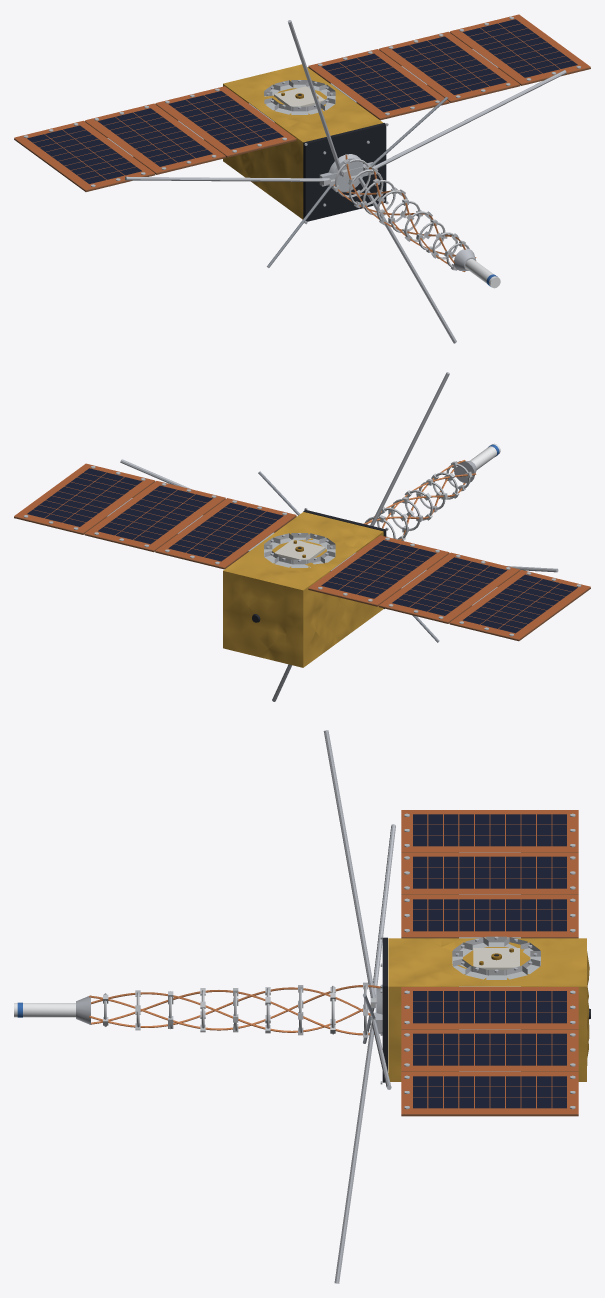
File: kineis.glb
3 renders of one model, top to bottom at view 1: azimuth 30°, elevation 25°; view 2: azimuth 150°, elevation 25°; view 3: azimuth 270°, elevation 25°, orthographic. The views are drawn at different scales.
Visible parts, largest first — view 1: body, solar-panel, foil; view 2: body, solar-panel, foil; view 3: body, solar-panel, foil.
Boxes of the visible parts, x1,y1,x2,y2 form: body: [14, 14, 590, 343]; solar-panel: [27, 19, 577, 183]; foil: [223, 64, 476, 271]; body: [14, 372, 590, 701]; solar-panel: [27, 468, 577, 633]; foil: [223, 460, 476, 667]; body: [14, 730, 590, 1283]; solar-panel: [413, 814, 566, 1108]; foil: [89, 938, 589, 1081].
Size of the model in its own units: 1.62 by 1.13 by 1.3.
